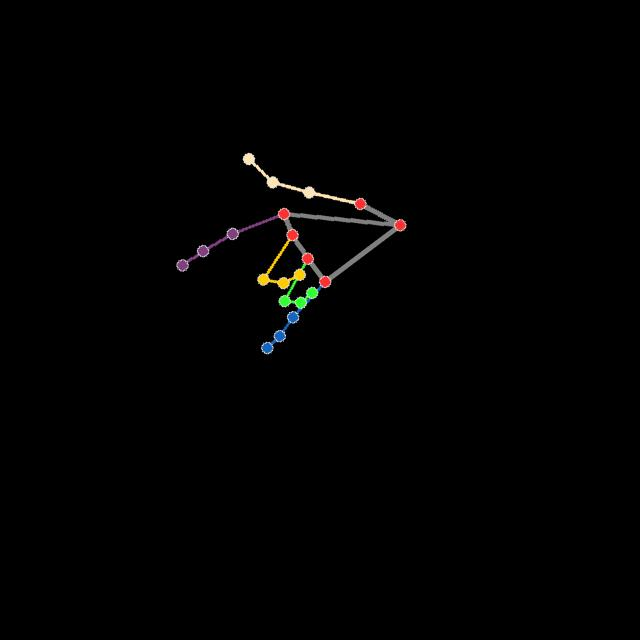spiderman: (175, 151, 408, 358)
